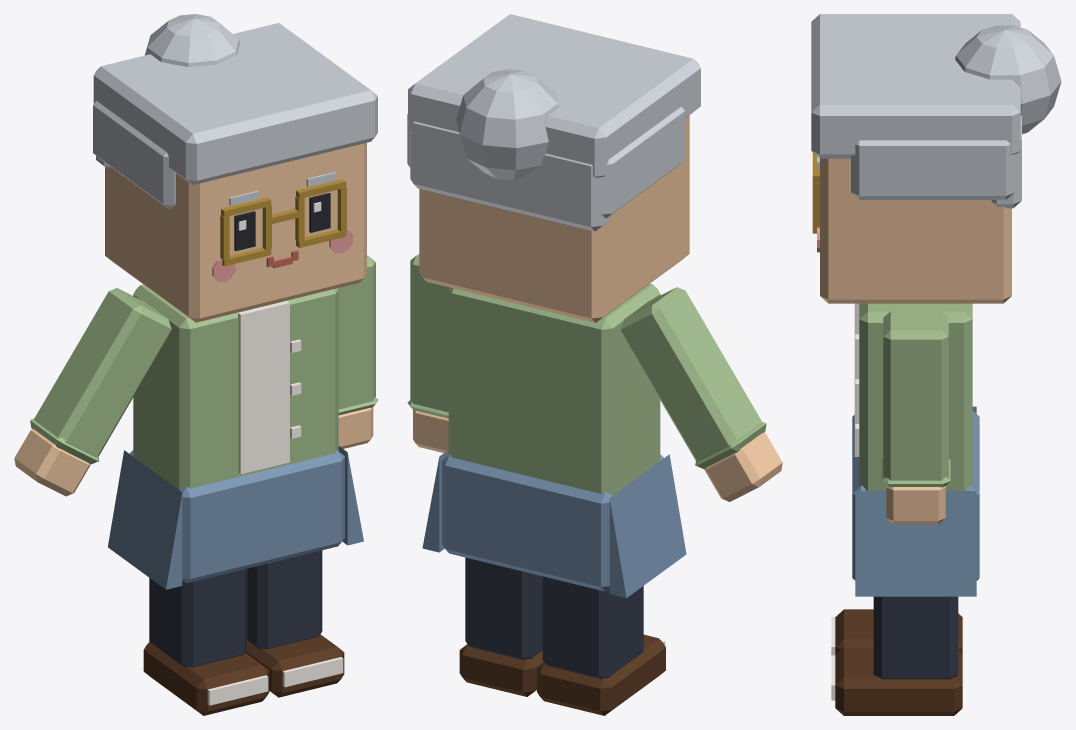
File: CleanACat_NPC_Customer_Bea.fbx
3 views of the same model, side by side, from view 1: azimuth 30°, elevation 25°; view 2: azimuth 150°, elevation 25°; view 3: azimuth 270°, elevation 25° (orthographic). The views are drawn at different scales.
Parts seen in each view (by area): view 1: CleanACat_NPC_Customer_Bea_Head, CleanACat_NPC_Customer_Bea_Body, CleanACat_NPC_Customer_Bea_ArmR, CleanACat_NPC_Customer_Bea_LegR, CleanACat_NPC_Customer_Bea_LegL, CleanACat_NPC_Customer_Bea_ArmL; view 2: CleanACat_NPC_Customer_Bea_Head, CleanACat_NPC_Customer_Bea_Body, CleanACat_NPC_Customer_Bea_ArmR, CleanACat_NPC_Customer_Bea_LegR, CleanACat_NPC_Customer_Bea_LegL, CleanACat_NPC_Customer_Bea_ArmL; view 3: CleanACat_NPC_Customer_Bea_Head, CleanACat_NPC_Customer_Bea_Body, CleanACat_NPC_Customer_Bea_ArmL, CleanACat_NPC_Customer_Bea_LegL, CleanACat_NPC_Customer_Bea_LegR.
Boxes of the visible parts, box(x1,y1,x2,y2) form: CleanACat_NPC_Customer_Bea_Head: box(93, 14, 377, 322); CleanACat_NPC_Customer_Bea_Body: box(108, 284, 363, 589); CleanACat_NPC_Customer_Bea_ArmR: box(14, 288, 171, 496); CleanACat_NPC_Customer_Bea_LegR: box(143, 568, 269, 715); CleanACat_NPC_Customer_Bea_LegL: box(245, 550, 344, 697); CleanACat_NPC_Customer_Bea_ArmL: box(338, 255, 378, 448); CleanACat_NPC_Customer_Bea_Head: box(407, 14, 700, 322); CleanACat_NPC_Customer_Bea_Body: box(422, 283, 686, 598); CleanACat_NPC_Customer_Bea_ArmR: box(620, 287, 782, 501); CleanACat_NPC_Customer_Bea_LegR: box(537, 576, 665, 715); CleanACat_NPC_Customer_Bea_LegL: box(459, 557, 544, 696); CleanACat_NPC_Customer_Bea_ArmL: box(407, 254, 449, 452); CleanACat_NPC_Customer_Bea_Head: box(811, 14, 1061, 303); CleanACat_NPC_Customer_Bea_Body: box(852, 303, 979, 596); CleanACat_NPC_Customer_Bea_ArmL: box(881, 311, 950, 524); CleanACat_NPC_Customer_Bea_LegL: box(831, 596, 962, 715); CleanACat_NPC_Customer_Bea_LegR: box(831, 609, 962, 655).
Bounding box in the file's own units: 2.9 × 5.09 × 1.77.
Materials: 1 (1 with a texture image).
